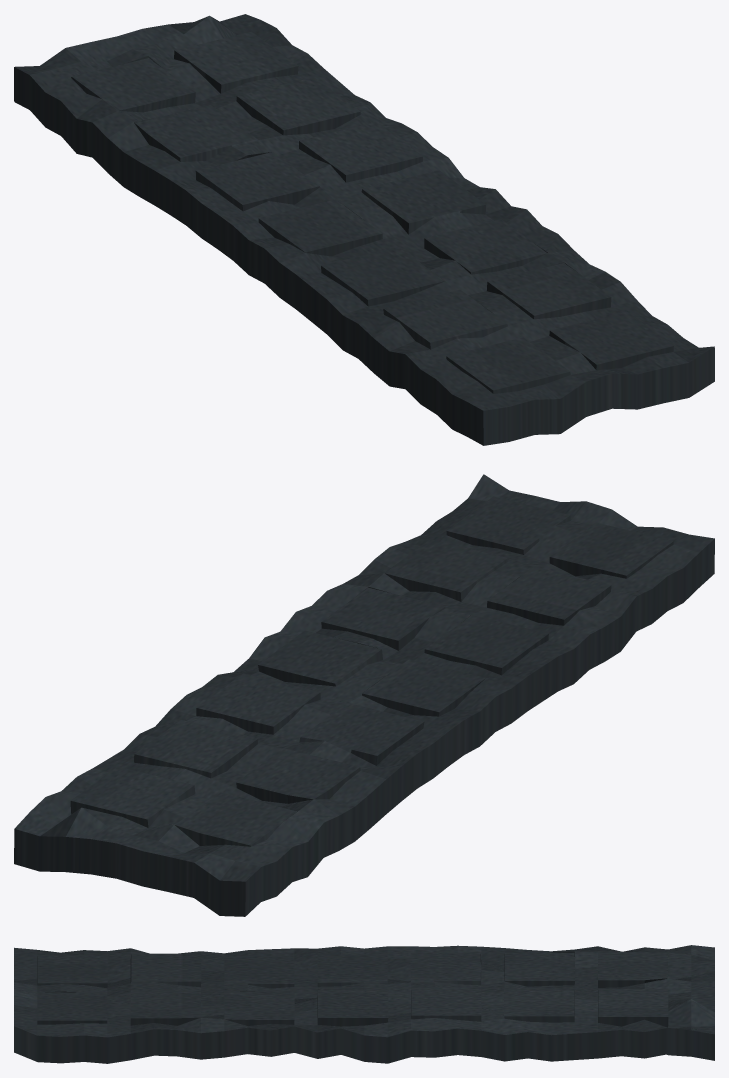
File: florr.fbx
3 views of the same model, one above another, from view 1: azimuth 30°, elevation 25°; view 2: azimuth 150°, elevation 25°; view 3: azimuth 270°, elevation 25° (orthographic). The views are drawn at different scales.
Parts seen in each view (by area): view 1: Plane.001; view 2: Plane.001; view 3: Plane.001.
Part boxes in pixels (x1,y1,x2,y2): Plane.001: (14,14,714,445); Plane.001: (14,474,714,916); Plane.001: (14,945,714,1063).
Bounding box in the file's own units: 53.43 × 14.36 × 188.
1 material, 1 textured.
